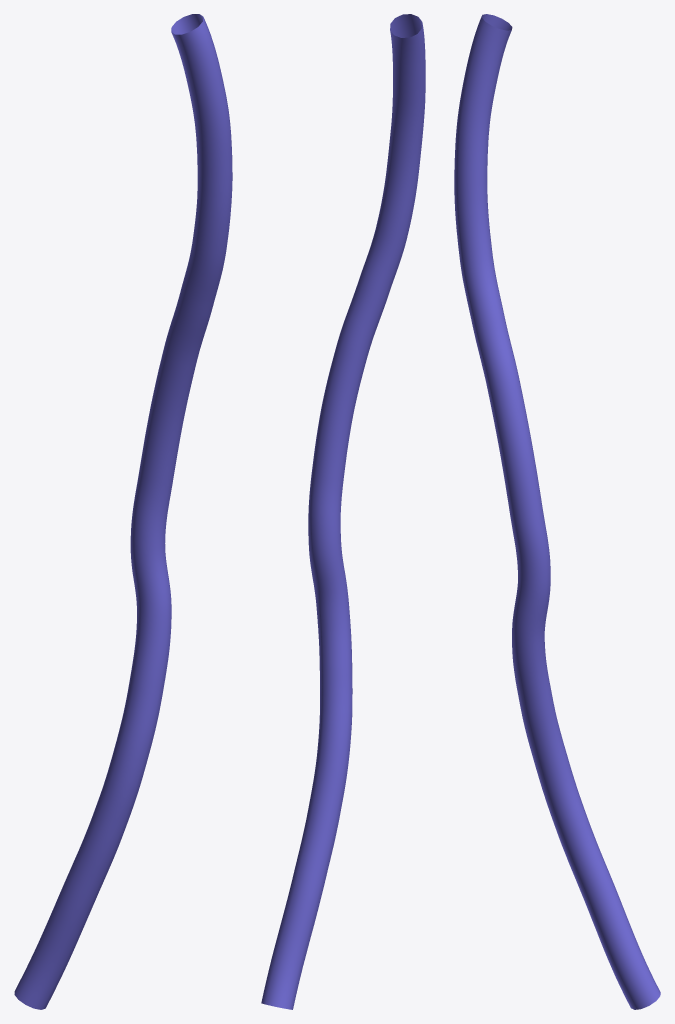
Rendered from Femoral_vein.l_BezierCurve.208.glb.
The picture shows the model from 3 angles, left to right: view 1: azimuth 90°, elevation 25°; view 2: azimuth 150°, elevation 25°; view 3: azimuth 270°, elevation 25°; orthographic projection. The views are drawn at different scales.
Parts seen in each view (by area): view 1: Femoral_vein.l_BezierCurve.208; view 2: Femoral_vein.l_BezierCurve.208; view 3: Femoral_vein.l_BezierCurve.208.
Boxes of the visible parts, x1,y1,x2,y2 form: Femoral_vein.l_BezierCurve.208: [14, 14, 232, 1009]; Femoral_vein.l_BezierCurve.208: [261, 14, 425, 1009]; Femoral_vein.l_BezierCurve.208: [454, 14, 660, 1009].
Bounding box in the file's own units: 0.032 × 0.3148 × 0.0611.
